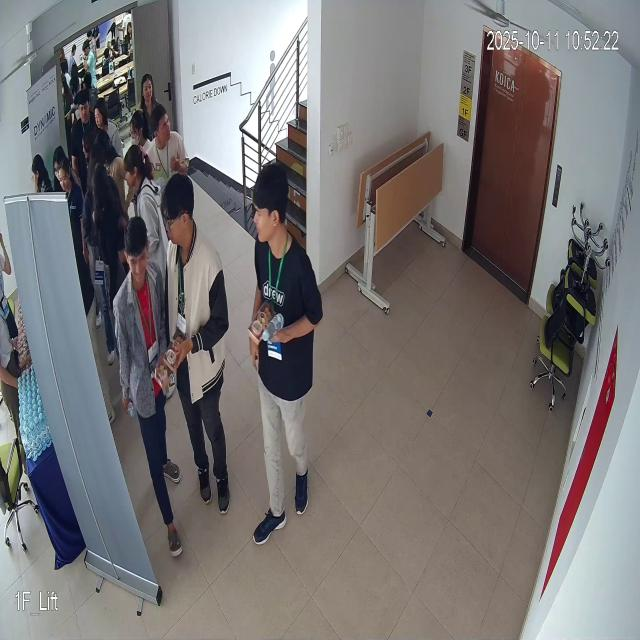face: (160, 170, 202, 264), (120, 214, 150, 292)
